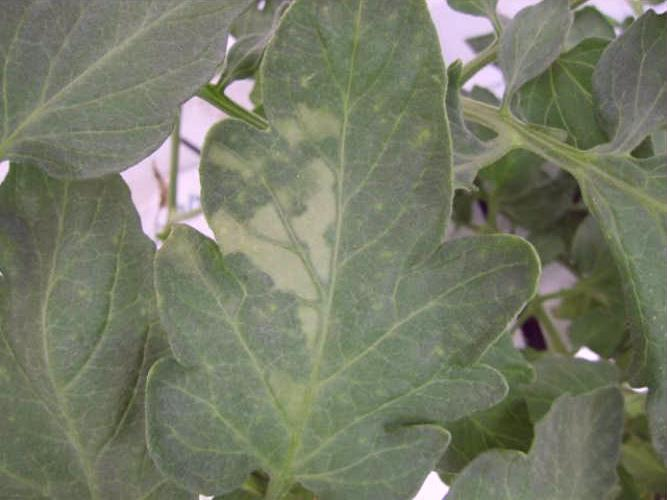Tomato leaf bacterial spot: (142, 2, 539, 483)
